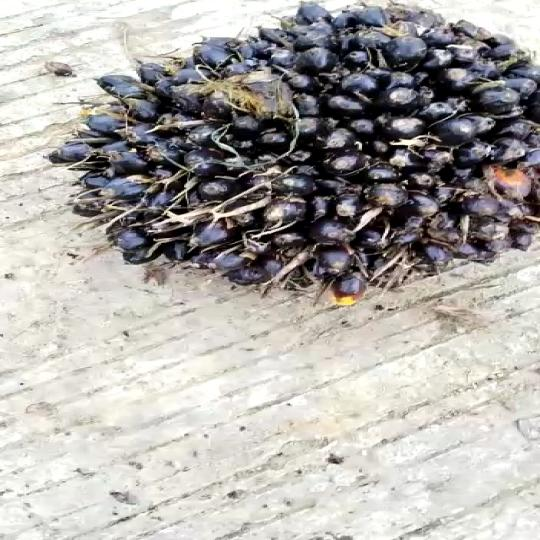mentah: (19, 0, 538, 302)
